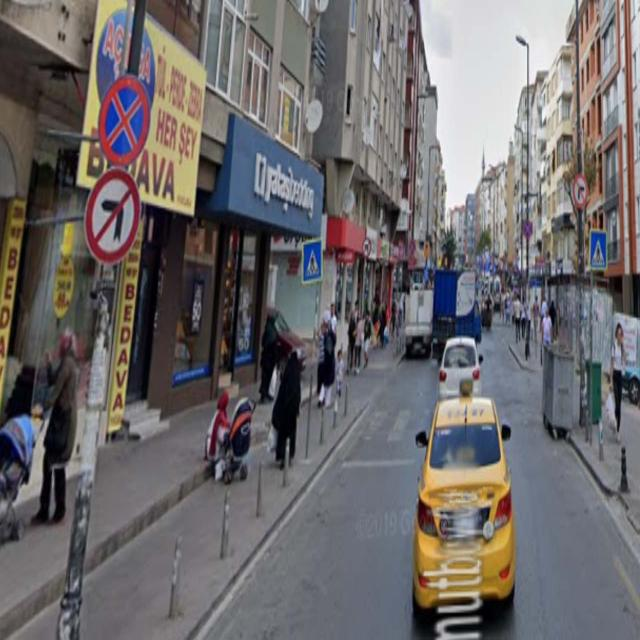sagadonulmez: (574, 175, 588, 209)
soladonulmez: (85, 170, 141, 262)
